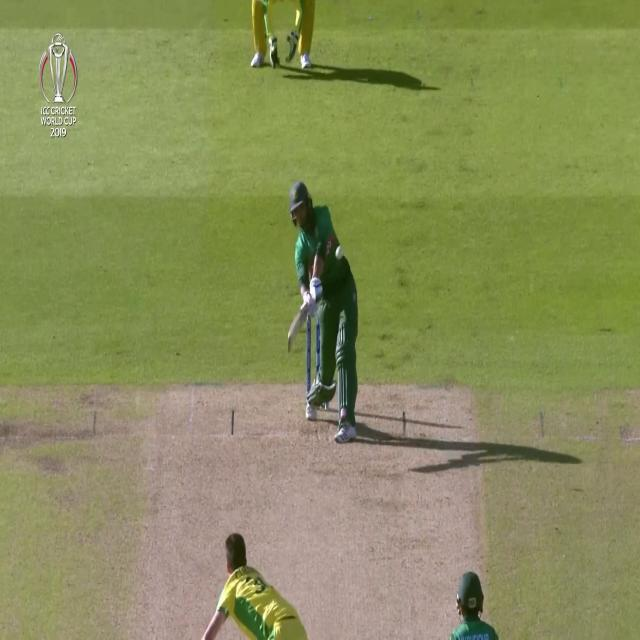ball: (333, 245, 346, 262)
